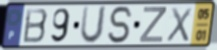9: (50, 7, 71, 44)
B: (21, 7, 50, 45)
S: (107, 5, 135, 45)
U: (78, 5, 109, 46)
X: (165, 6, 193, 44)
Z: (138, 6, 168, 44)
